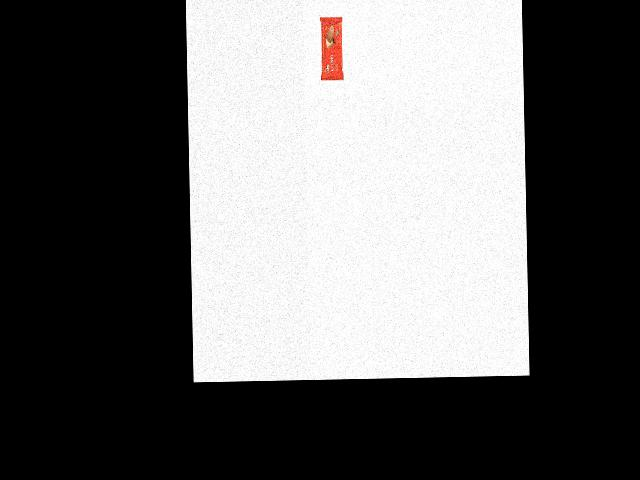chocolate: (319, 17, 344, 83)
